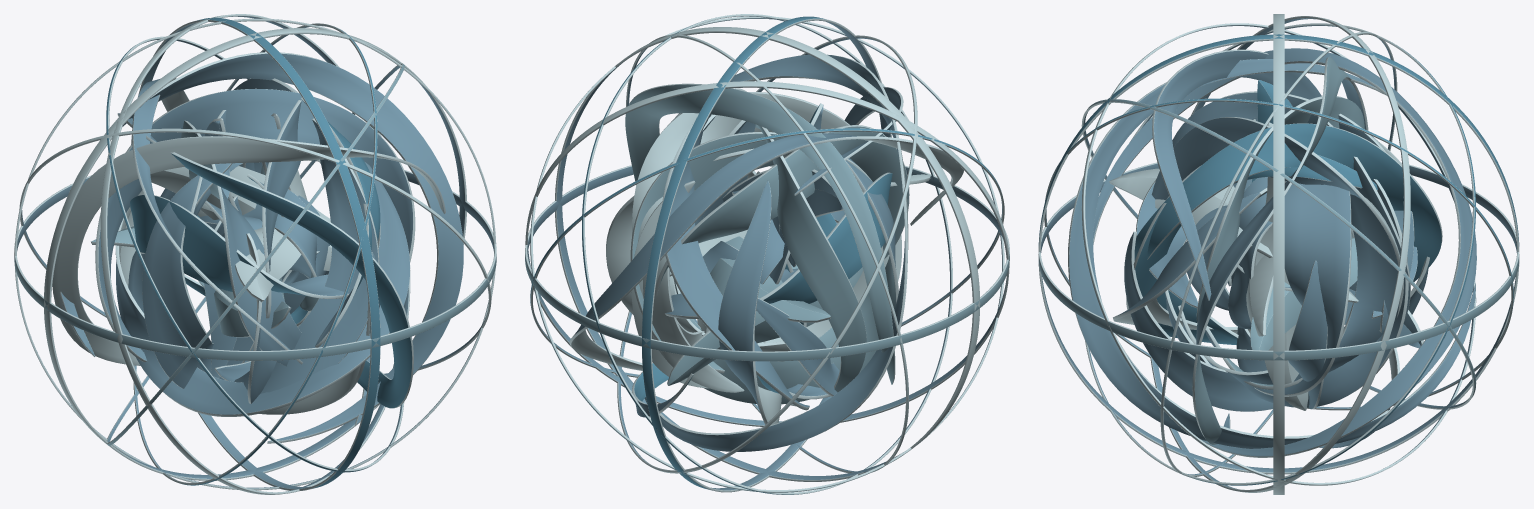
The model's file is D32Steel_Finished.fbx.
3 views of the same model, side by side, from view 1: azimuth 30°, elevation 25°; view 2: azimuth 150°, elevation 25°; view 3: azimuth 270°, elevation 25° (orthographic).
Parts seen in each view (by area): view 1: 疏外层连接钢带_00, 球心密集宽带_07, 疏外层连接钢带_01, 球心密集宽带_08, 同半径球缘钢带_01, 球心密集宽带_10, 球心密集宽带_05, 疏外层连接钢带_02, 同半径球缘钢带_02, 同半径球缘钢带_00, 球心密集宽带_02, 同半径球缘钢带_03 (+20 smaller); view 2: 疏外层连接钢带_00, 疏外层连接钢带_01, 同半径球缘钢带_01, 疏外层连接钢带_03, 球心密集宽带_07, 同半径球缘钢带_00, 同半径球缘钢带_02, 球心密集宽带_04, 球心密集宽带_11, 同半径球缘钢带_03, 球心密集宽带_06, 球心密集宽带_09 (+20 smaller); view 3: 疏外层连接钢带_02, 疏外层连接钢带_03, 球心密集宽带_09, 球心密集宽带_00, 同半径球缘钢带_02, 同半径球缘钢带_00, 球心密集宽带_01, 疏外层连接钢带_01, 同半径球缘钢带_01, 疏外层连接钢带_00, 球心密集宽带_06, 同半径球缘钢带_03 (+21 smaller).
Boxes of the visible parts, left/top/right/bottom form: 疏外层连接钢带_00: left=59, top=52, right=463, bottom=443; 球心密集宽带_07: left=95, top=88, right=415, bottom=362; 疏外层连接钢带_01: left=52, top=136, right=445, bottom=365; 球心密集宽带_08: left=115, top=162, right=410, bottom=416; 同半径球缘钢带_01: left=44, top=28, right=466, bottom=480; 球心密集宽带_10: left=142, top=163, right=253, bottom=388; 球心密集宽带_05: left=234, top=118, right=379, bottom=393; 疏外层连接钢带_02: left=117, top=113, right=413, bottom=408; 同半径球缘钢带_02: left=131, top=17, right=380, bottom=490; 同半径球缘钢带_00: left=14, top=160, right=496, bottom=360; 球心密集宽带_02: left=130, top=195, right=349, bottom=298; 同半径球缘钢带_03: left=100, top=14, right=410, bottom=494; 疏外层连接钢带_00: left=625, top=83, right=895, bottom=406; 疏外层连接钢带_01: left=638, top=54, right=908, bottom=451; 同半径球缘钢带_01: left=555, top=27, right=980, bottom=481; 疏外层连接钢带_03: left=569, top=133, right=963, bottom=370; 球心密集宽带_07: left=680, top=113, right=866, bottom=392; 同半径球缘钢带_00: left=525, top=165, right=1009, bottom=361; 同半径球缘钢带_02: left=642, top=16, right=891, bottom=492; 球心密集宽带_04: left=654, top=125, right=909, bottom=299; 球心密集宽带_11: left=632, top=92, right=849, bottom=392; 同半径球缘钢带_03: left=525, top=81, right=1009, bottom=426; 球心密集宽带_06: left=718, top=180, right=781, bottom=424; 球心密集宽带_09: left=662, top=88, right=837, bottom=410; 疏外层连接钢带_02: left=1068, top=59, right=1475, bottom=448; 疏外层连接钢带_03: left=1093, top=48, right=1476, bottom=457; 球心密集宽带_09: left=1134, top=123, right=1442, bottom=281; 球心密集宽带_00: left=1236, top=181, right=1351, bottom=396; 同半径球缘钢带_02: left=1038, top=34, right=1519, bottom=474; 同半径球缘钢带_00: left=1038, top=162, right=1519, bottom=360; 球心密集宽带_01: left=1205, top=108, right=1410, bottom=389; 疏外层连接钢带_01: left=1152, top=49, right=1399, bottom=448; 同半径球缘钢带_01: left=1273, top=14, right=1284, bottom=494; 疏外层连接钢带_00: left=1192, top=56, right=1368, bottom=444; 球心密集宽带_06: left=1124, top=136, right=1429, bottom=411; 同半径球缘钢带_03: left=1150, top=16, right=1410, bottom=492.
Bounding box in the file's own units: 200 × 200 × 200.
